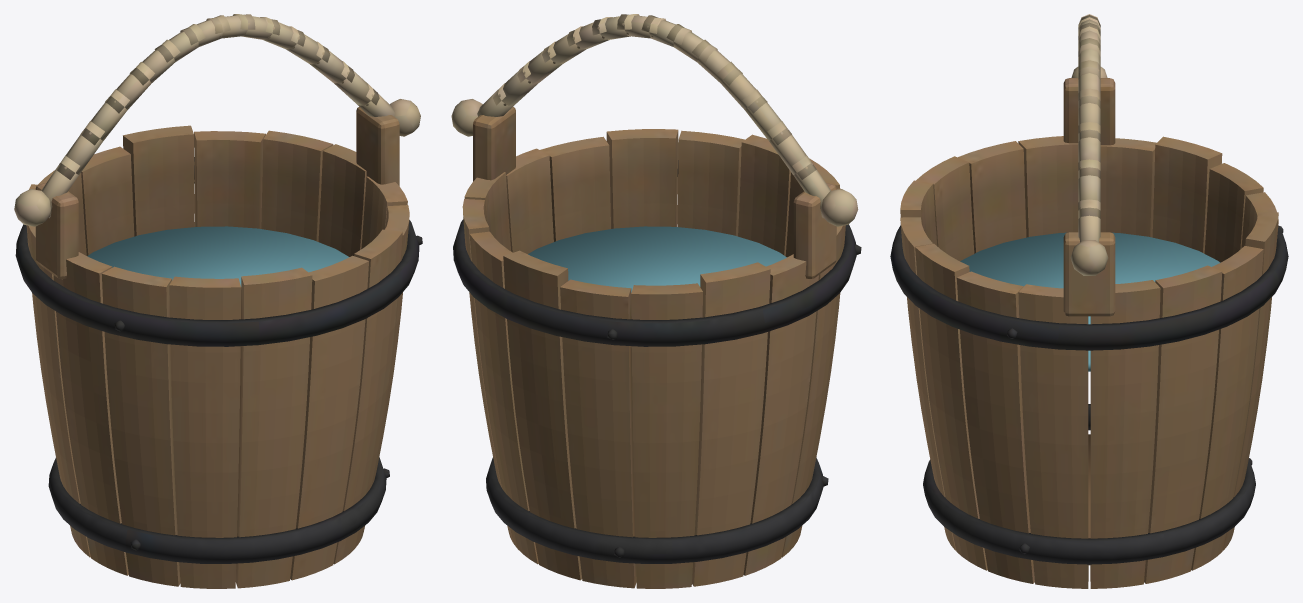
The model's file is tool_bucket.d6f424bc.glb.
The picture shows the model from 3 angles, left to right: view 1: azimuth 30°, elevation 25°; view 2: azimuth 150°, elevation 25°; view 3: azimuth 270°, elevation 25°; orthographic projection.
Visible parts, largest first — view 1: bucket-body, bucket-water; view 2: bucket-body, bucket-water; view 3: bucket-body, bucket-water.
Boxes of the visible parts, x1=… form: bucket-body: x1=14, y1=14, x2=422, y2=588; bucket-water: x1=87, y1=226, x2=349, y2=286; bucket-body: x1=451, y1=14, x2=861, y2=588; bucket-water: x1=528, y1=226, x2=786, y2=292; bucket-body: x1=890, y1=14, x2=1288, y2=588; bucket-water: x1=960, y1=232, x2=1220, y2=371.
Size of what is drawn, in the model's own units: 0.2649 by 0.3221 by 0.2314.
Materials: 2 (1 with a texture image).
